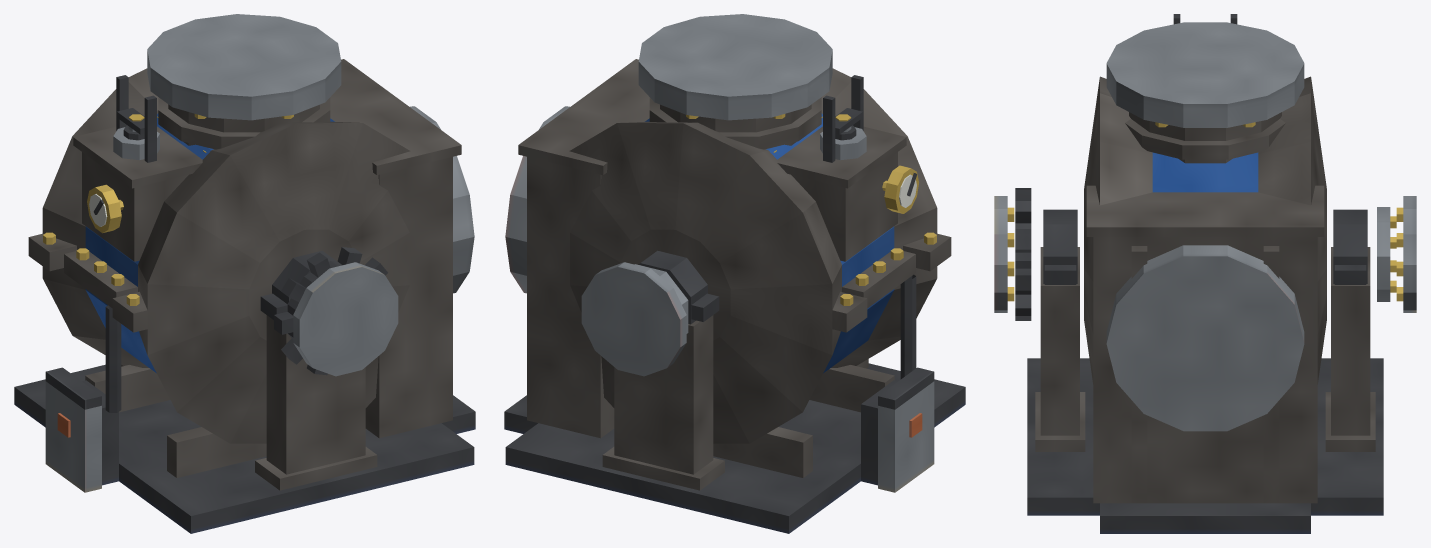
Rendered from shaftsteamlp.obj.
The picture shows the model from 3 angles, left to right: view 1: azimuth 30°, elevation 25°; view 2: azimuth 150°, elevation 25°; view 3: azimuth 270°, elevation 25°; orthographic projection.
Parts seen in each view (by area): view 1: main, rotor; view 2: main, rotor; view 3: main, rotor.
Part boxes in pixels (x1,y1,x2,y2): main: (14,14,475,533); rotor: (274,247,398,376); main: (504,14,965,533); rotor: (581,262,688,376); main: (1027,14,1383,533); rotor: (994,188,1416,320).
Bounding box in the file's own units: 1 × 1 × 1.
1 material, 1 textured.
